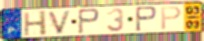3: (105, 7, 125, 33)
H: (23, 10, 49, 37)
P: (77, 8, 102, 35), (135, 6, 159, 33), (160, 5, 183, 31)
V: (47, 9, 73, 35)
